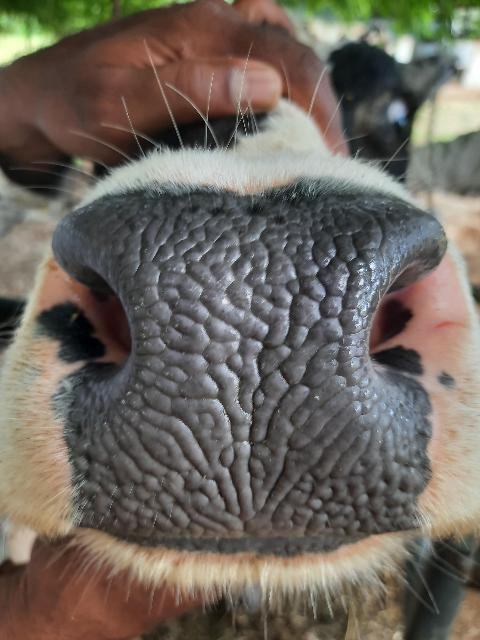Muzzle: (117, 202, 391, 538)
